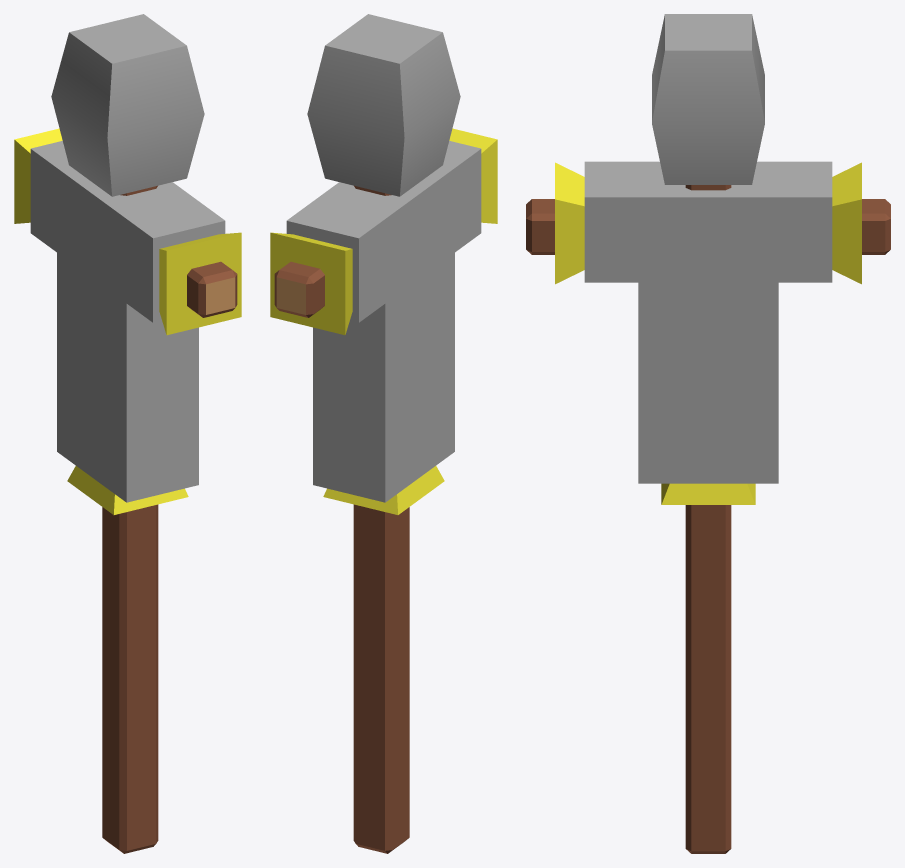
The model's file is Target 1.fbx.
3 renders of one model, left to right at view 1: azimuth 30°, elevation 25°; view 2: azimuth 150°, elevation 25°; view 3: azimuth 270°, elevation 25°, orthographic.
Visible parts, largest first — view 1: Target_1; view 2: Target_1; view 3: Target_1.
Boxes of the visible parts, x1,y1,x2,y2 form: Target_1: (14,14,241,853); Target_1: (270,14,497,853); Target_1: (526,14,890,853).
Bounding box in the file's own units: 0.0994 × 0.7872 × 0.32.
Materials: 2 (2 with a texture image).
